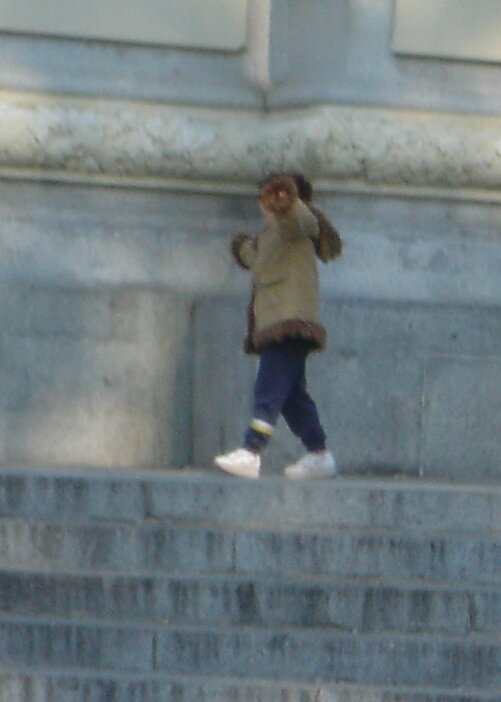person: (208, 169, 353, 483)
